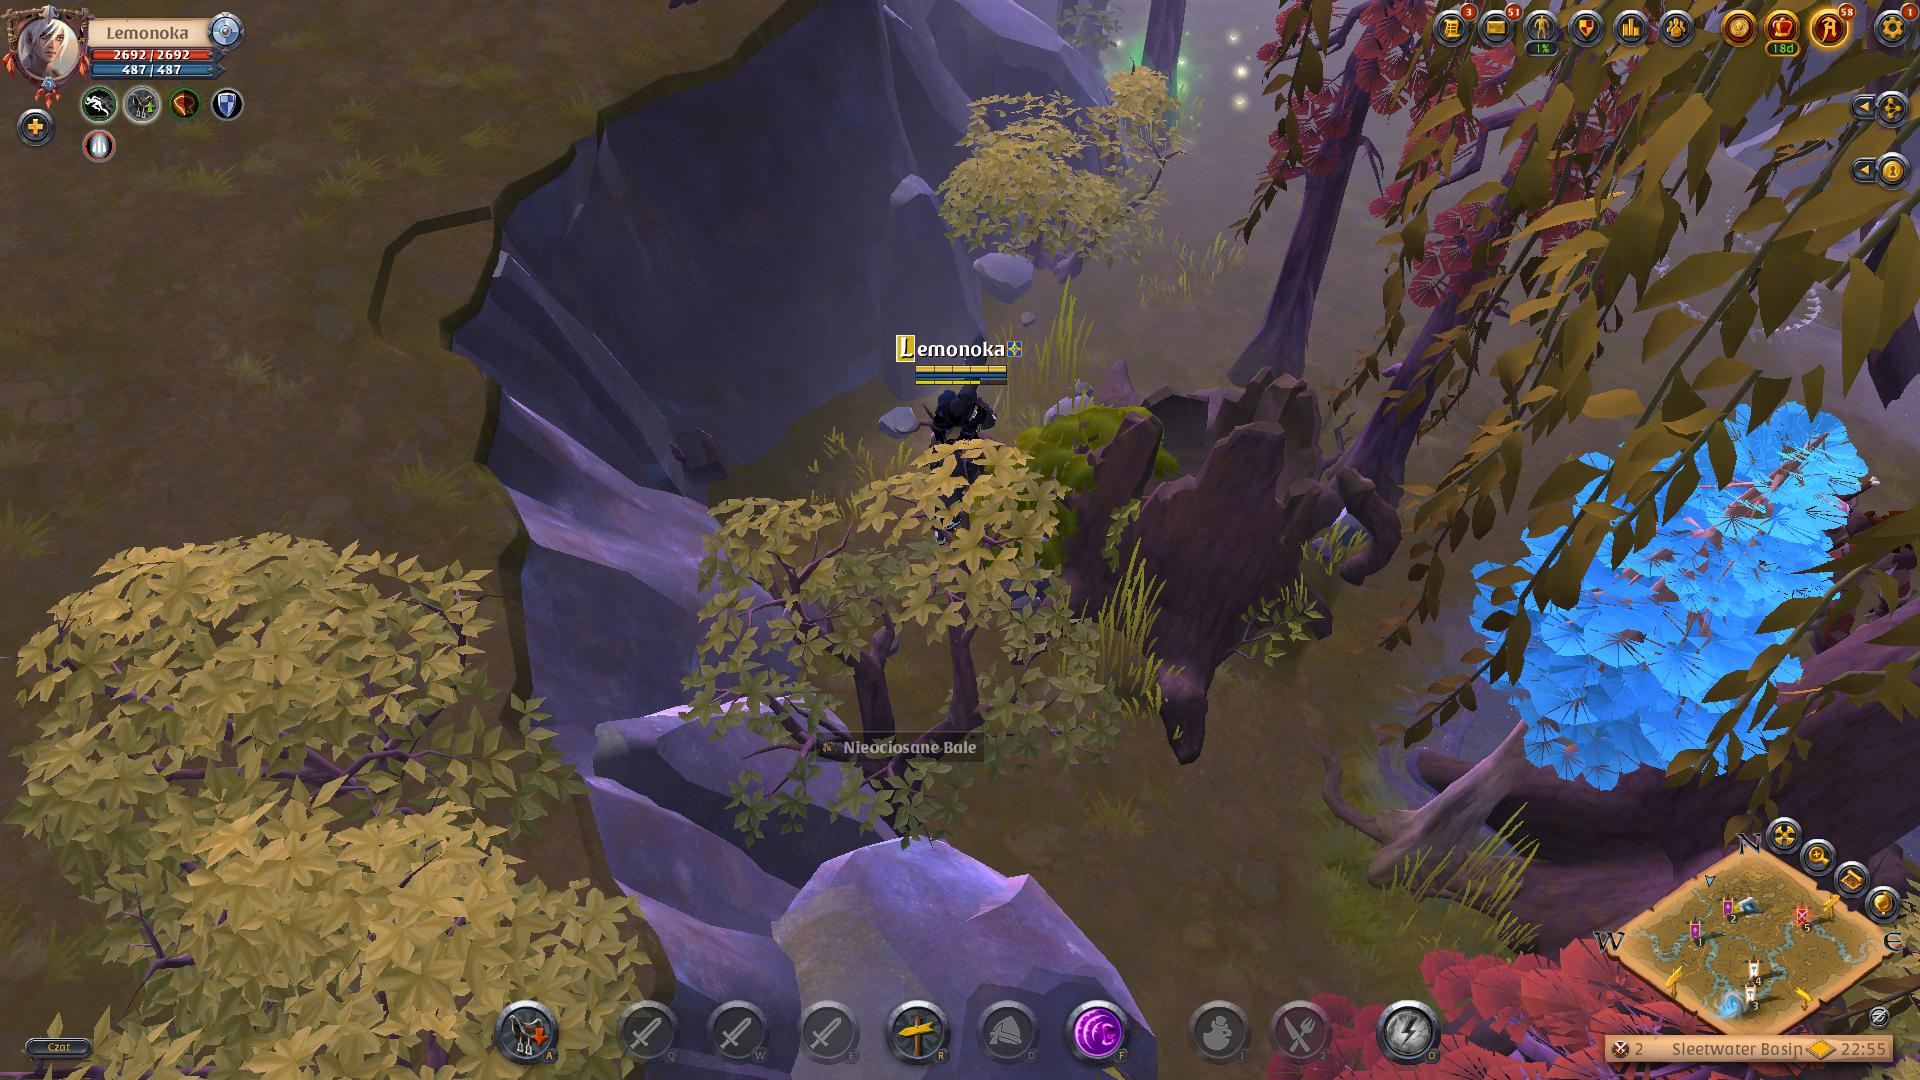wood tier 4: (1460, 392, 1869, 791)
